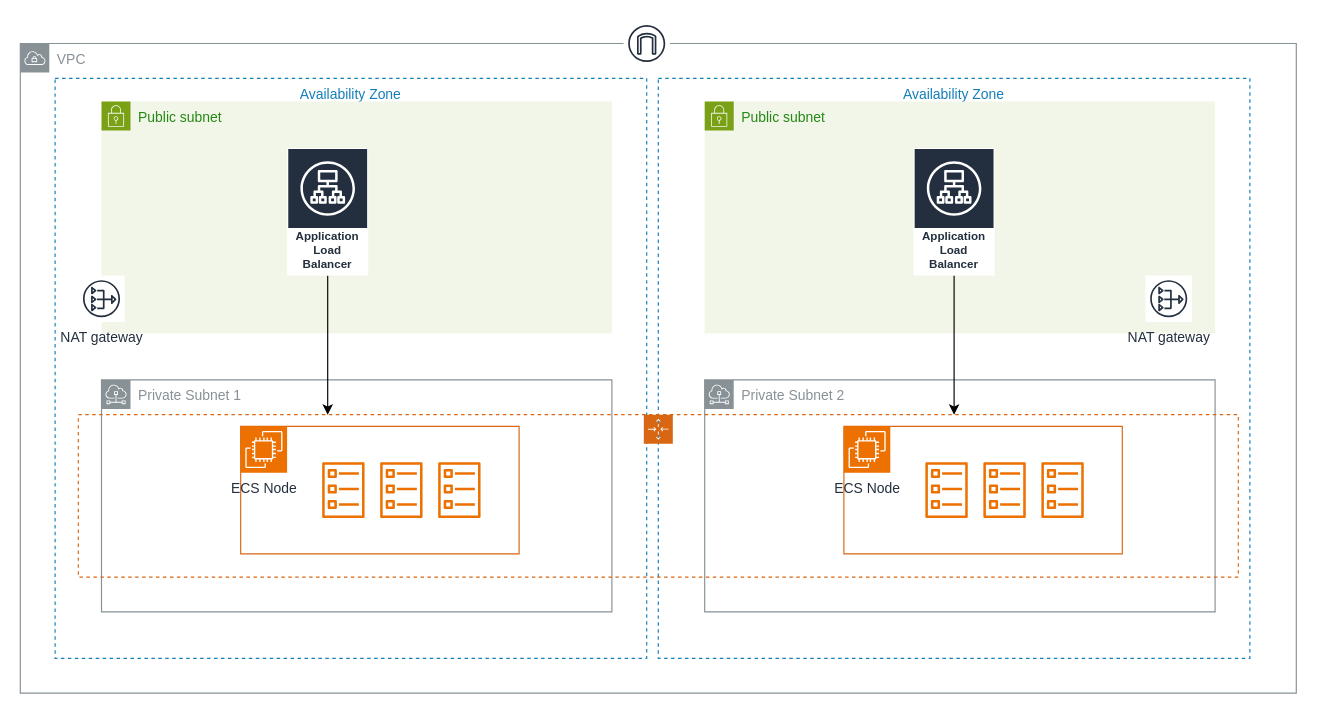
Some shapes in this 1317 by 713 pixel diagram are drawn without their labels. The box of each missing label's shape, as (x1, y1, x2, y2) in pixels:
Auto Scaling group: (77, 414, 1238, 577)
Internet gateway: (622, 19, 670, 67)
